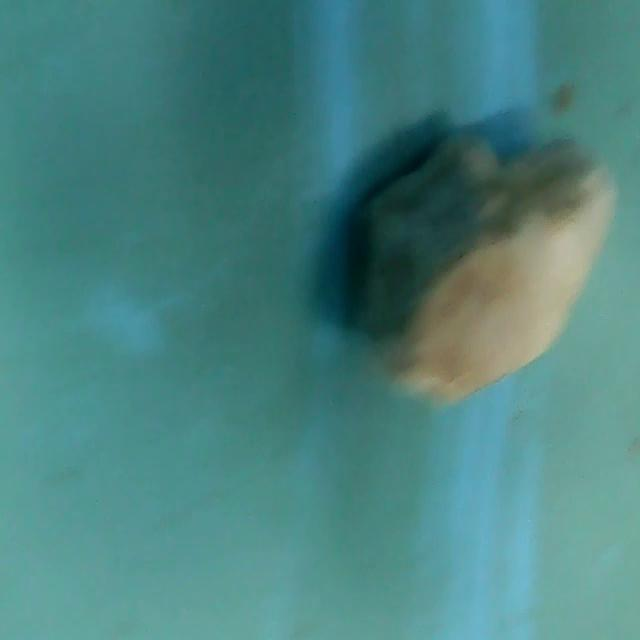rock: (341, 115, 620, 412)
